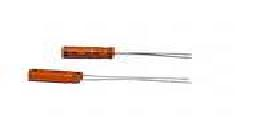Electrolytic-Capacitor: (26, 67, 194, 89), (59, 43, 195, 64)
